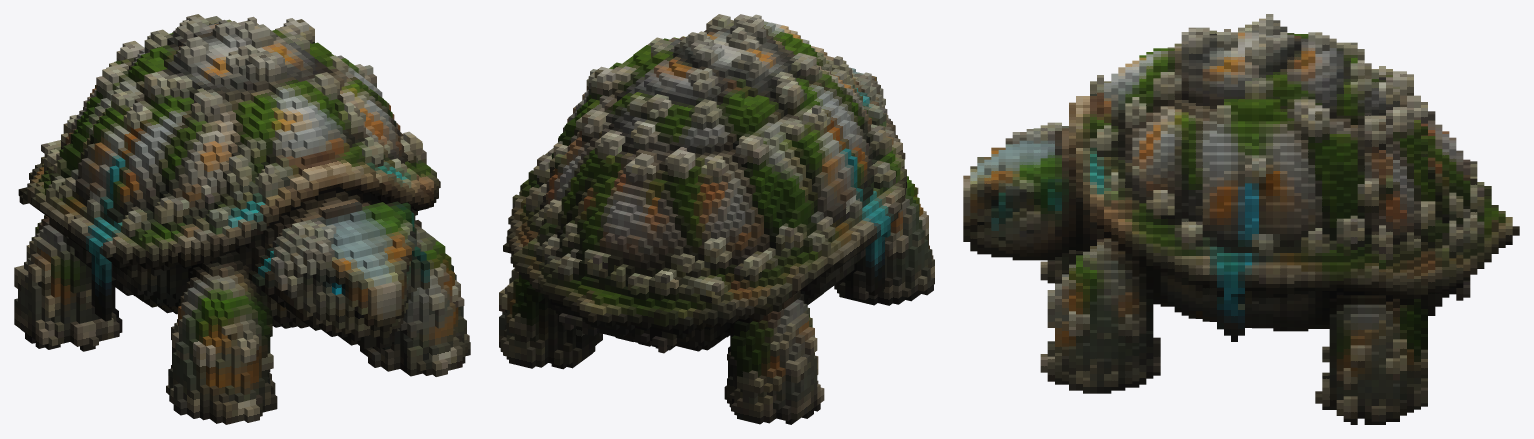
The model's file is u_carapace.glb.
3 renders of one model, left to right at view 1: azimuth 30°, elevation 25°; view 2: azimuth 150°, elevation 25°; view 3: azimuth 270°, elevation 25°, orthographic. The views are drawn at different scales.
Parts seen in each view (by area): view 1: carapace_body; view 2: carapace_body; view 3: carapace_body.
Part boxes in pixels (x1,y1,x2,y2): carapace_body: [14, 14, 470, 424]; carapace_body: [499, 14, 934, 424]; carapace_body: [963, 14, 1519, 424].
Size of the model in its own units: 0.9 by 0.8333 by 1.32.
Materials: 1 (1 with a texture image).
